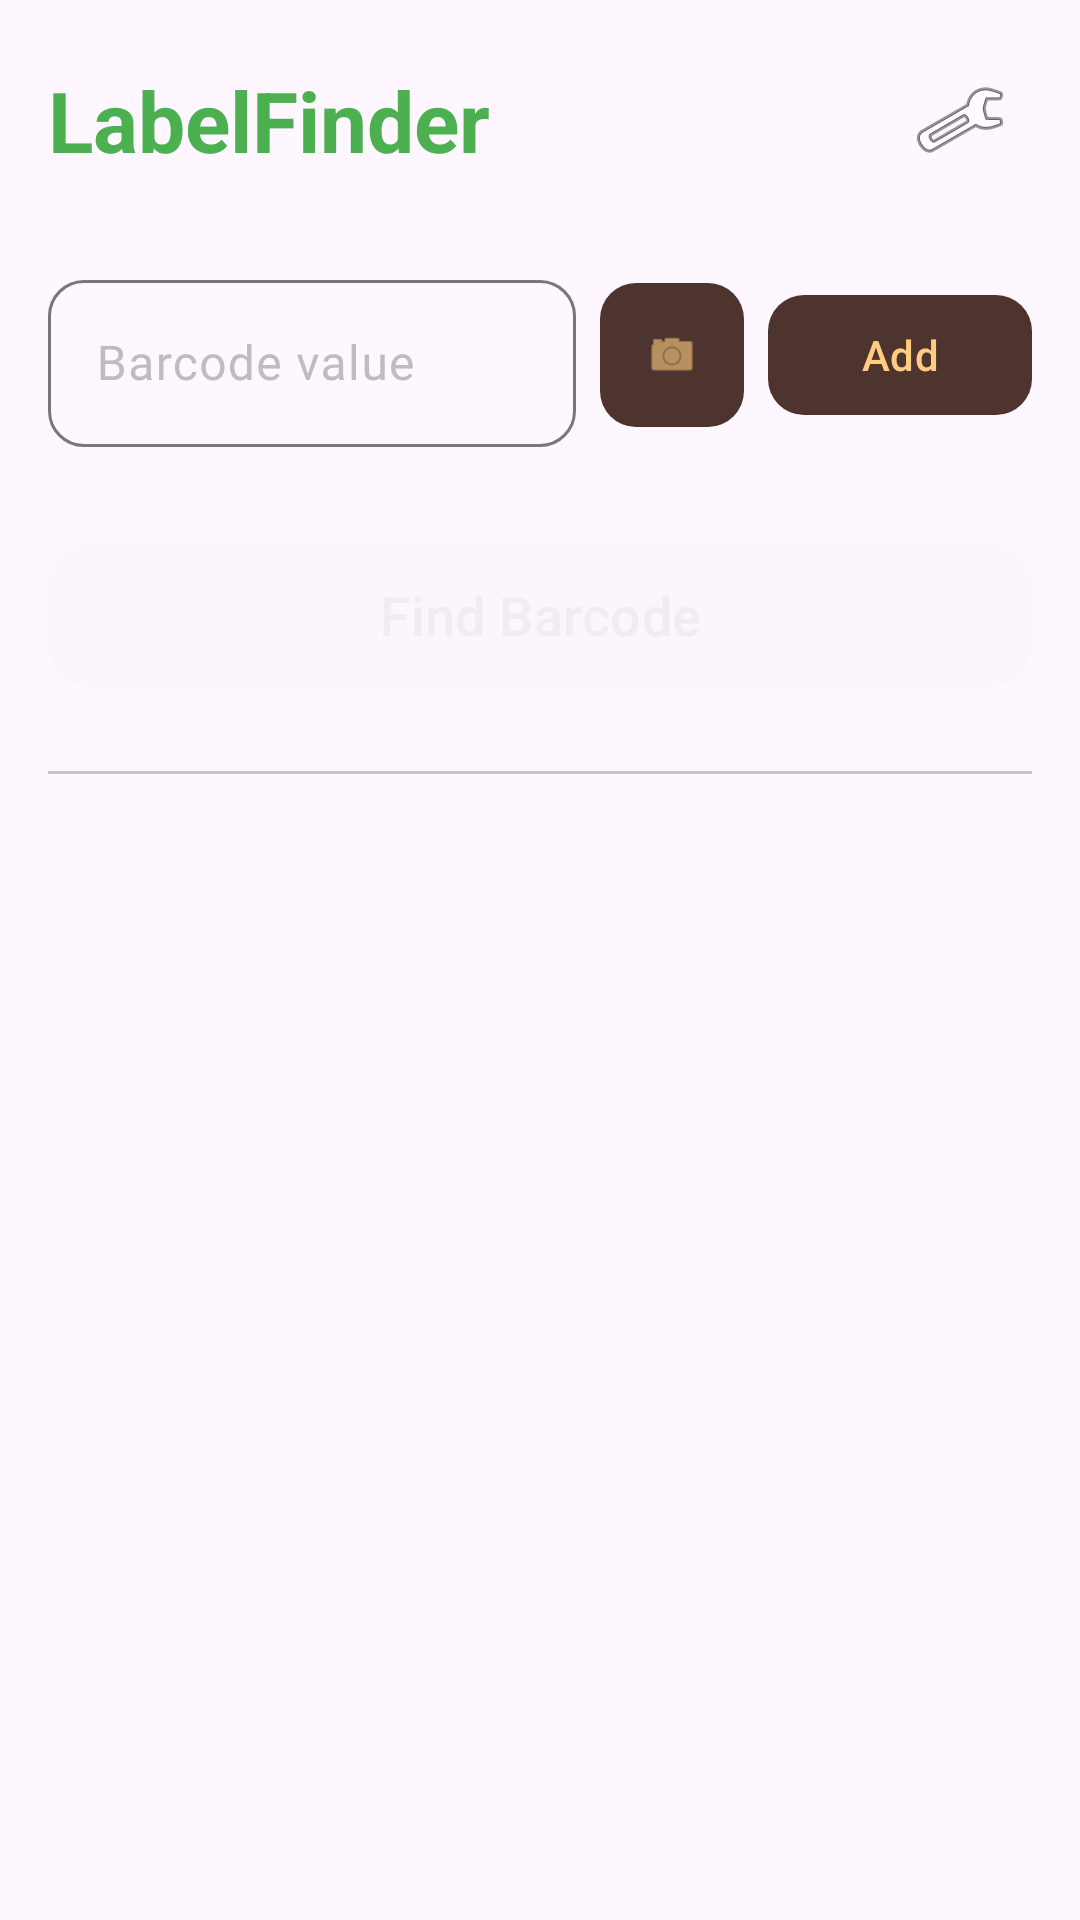

Icon click points for this 1080 × 1920 phone screenshot, format (x,y):
Scan barcode: (672,355)
Settings: (960,120)
